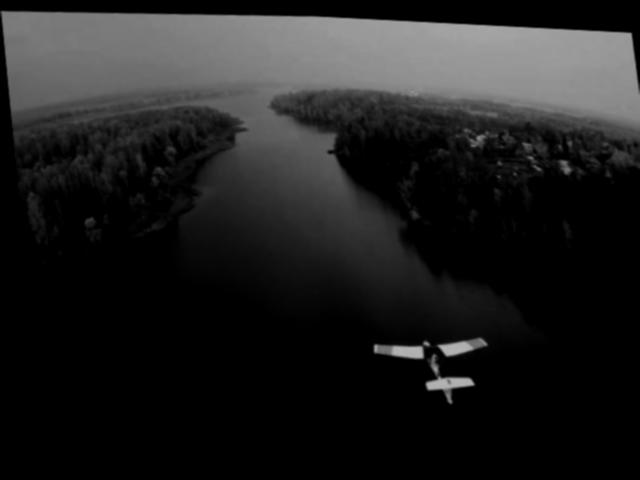hedef: (359, 322, 497, 411)
